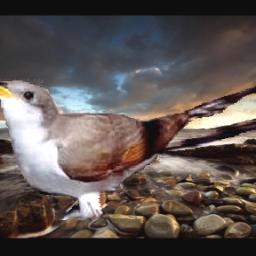Cuckoo: (0, 79, 256, 220)
